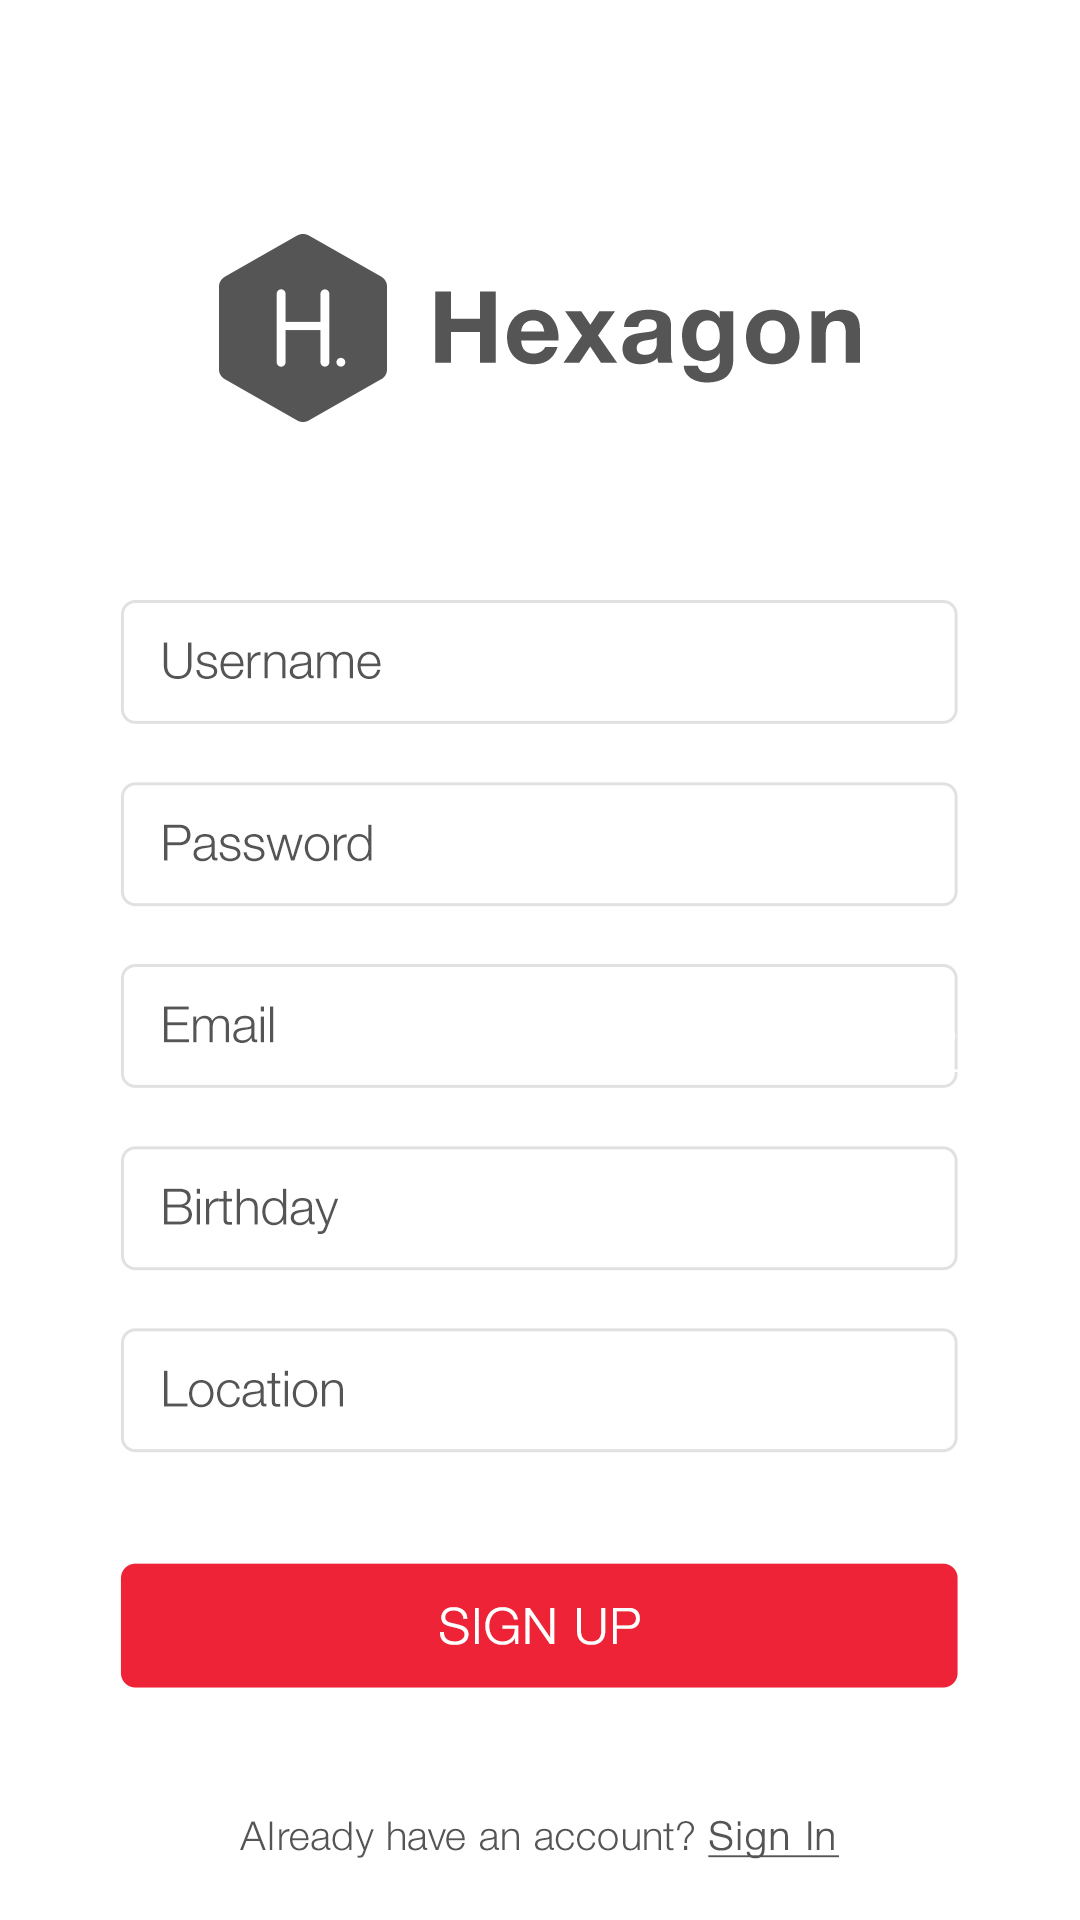EditText: (121, 782, 959, 907), (123, 600, 959, 725), (121, 964, 957, 1089), (121, 1146, 957, 1271), (121, 1328, 957, 1453)
Image: (219, 233, 388, 425)
Text: (435, 291, 861, 385), (240, 1820, 840, 1859), (164, 1188, 340, 1236), (164, 642, 382, 680), (164, 825, 373, 862), (164, 1370, 345, 1408), (164, 1006, 274, 1044)
TextButton: (121, 1563, 959, 1688)
